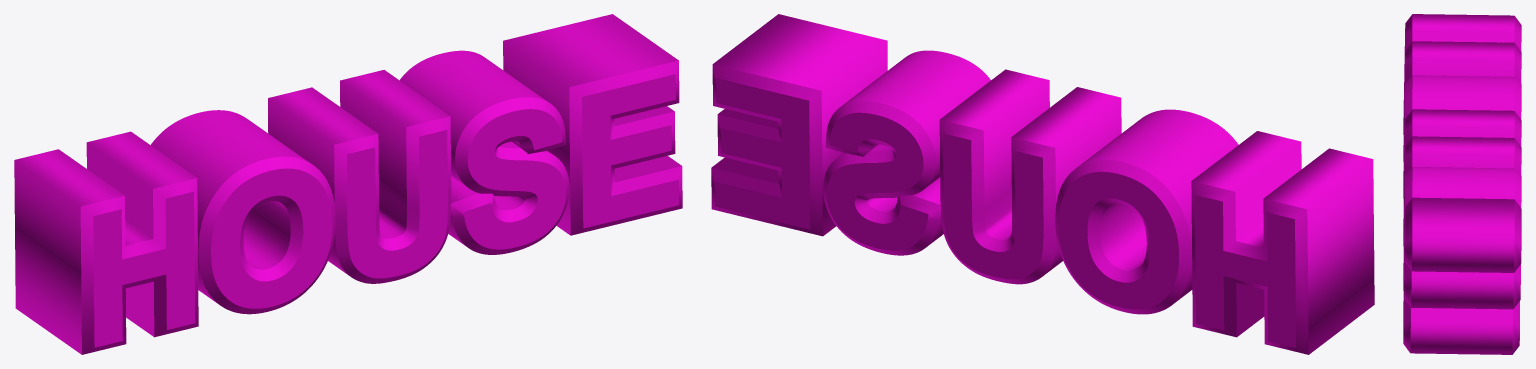
The model's file is thouse.fbx.
3 views of the same model, side by side, from view 1: azimuth 30°, elevation 25°; view 2: azimuth 150°, elevation 25°; view 3: azimuth 270°, elevation 25° (orthographic). The views are drawn at different scales.
Visible parts, largest first — view 1: Text; view 2: Text; view 3: Text.
Boxes of the visible parts, x1=… form: Text: x1=14, y1=14, x2=682, y2=354; Text: x1=711, y1=14, x2=1374, y2=354; Text: x1=1403, y1=14, x2=1521, y2=354.
Bounding box in the file's own units: 2.48 × 0.6072 × 0.5489.
